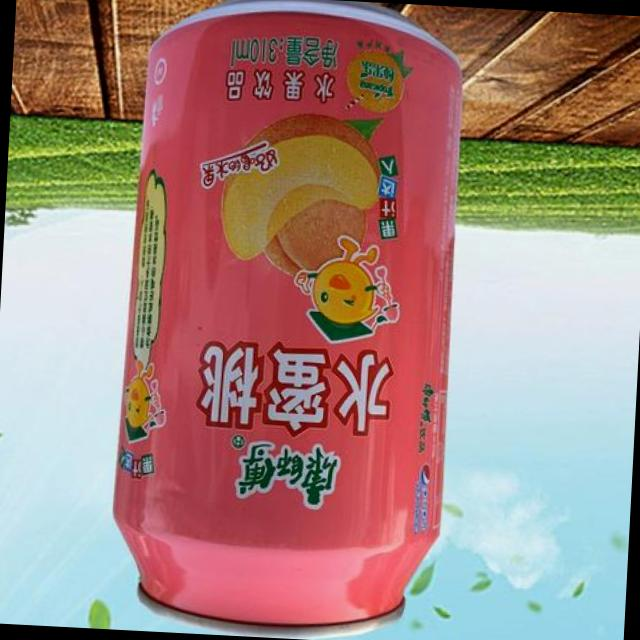can: (104, 0, 476, 640)
